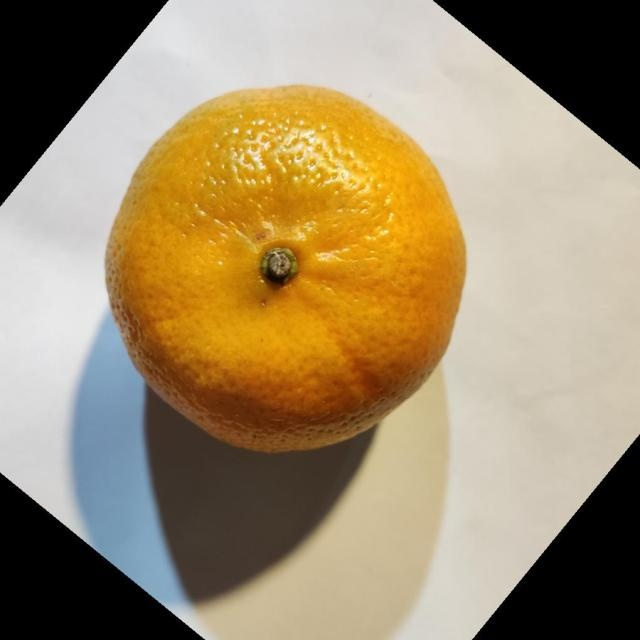agrume: (103, 82, 467, 454)
